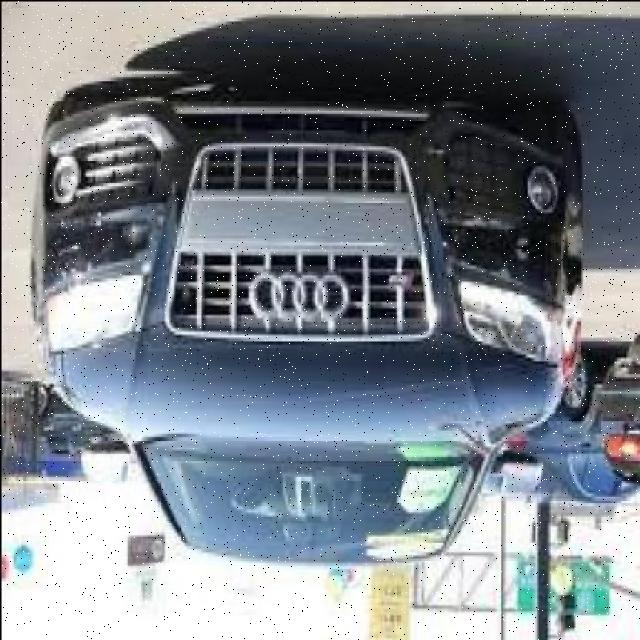damage: (417, 178, 526, 270), (42, 210, 156, 283)
